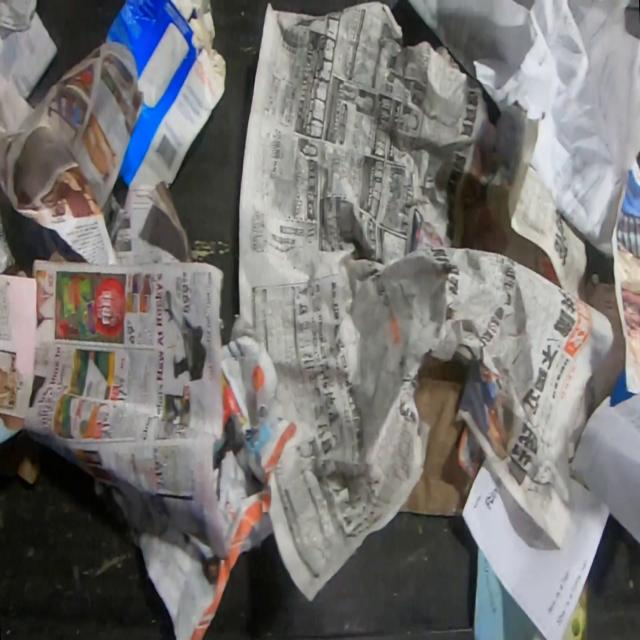cardboard: (102, 0, 228, 193), (398, 352, 474, 516), (0, 428, 43, 486)
